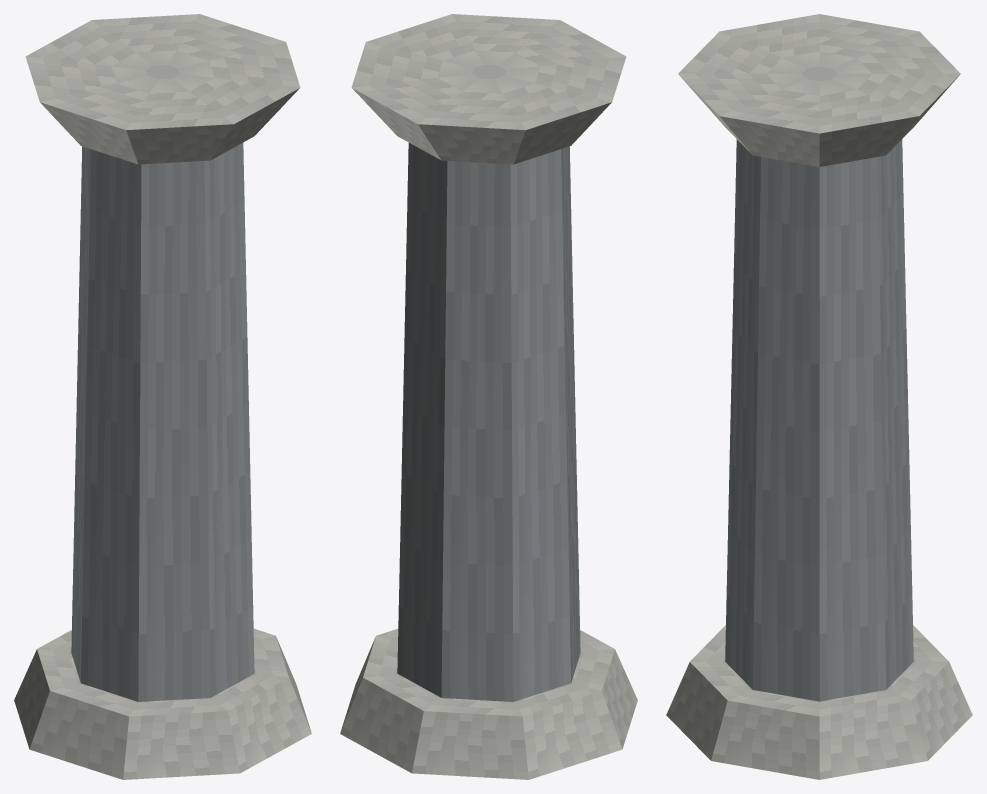
The model's file is dungeon-room-builder-column-octagonal-56a1d9d7__25762.glb.
3 renders of one model, left to right at view 1: azimuth 30°, elevation 25°; view 2: azimuth 150°, elevation 25°; view 3: azimuth 270°, elevation 25°, orthographic.
Visible parts, largest first — view 1: column-octagonal; view 2: column-octagonal; view 3: column-octagonal.
Part boxes in pixels (box(x1,y1,x2,y2)): column-octagonal: box(14, 14, 311, 779); column-octagonal: box(340, 14, 637, 779); column-octagonal: box(666, 14, 972, 779).
Size of the model in its own units: 1.3 by 3 by 1.3.
Materials: 2 (2 with a texture image).
